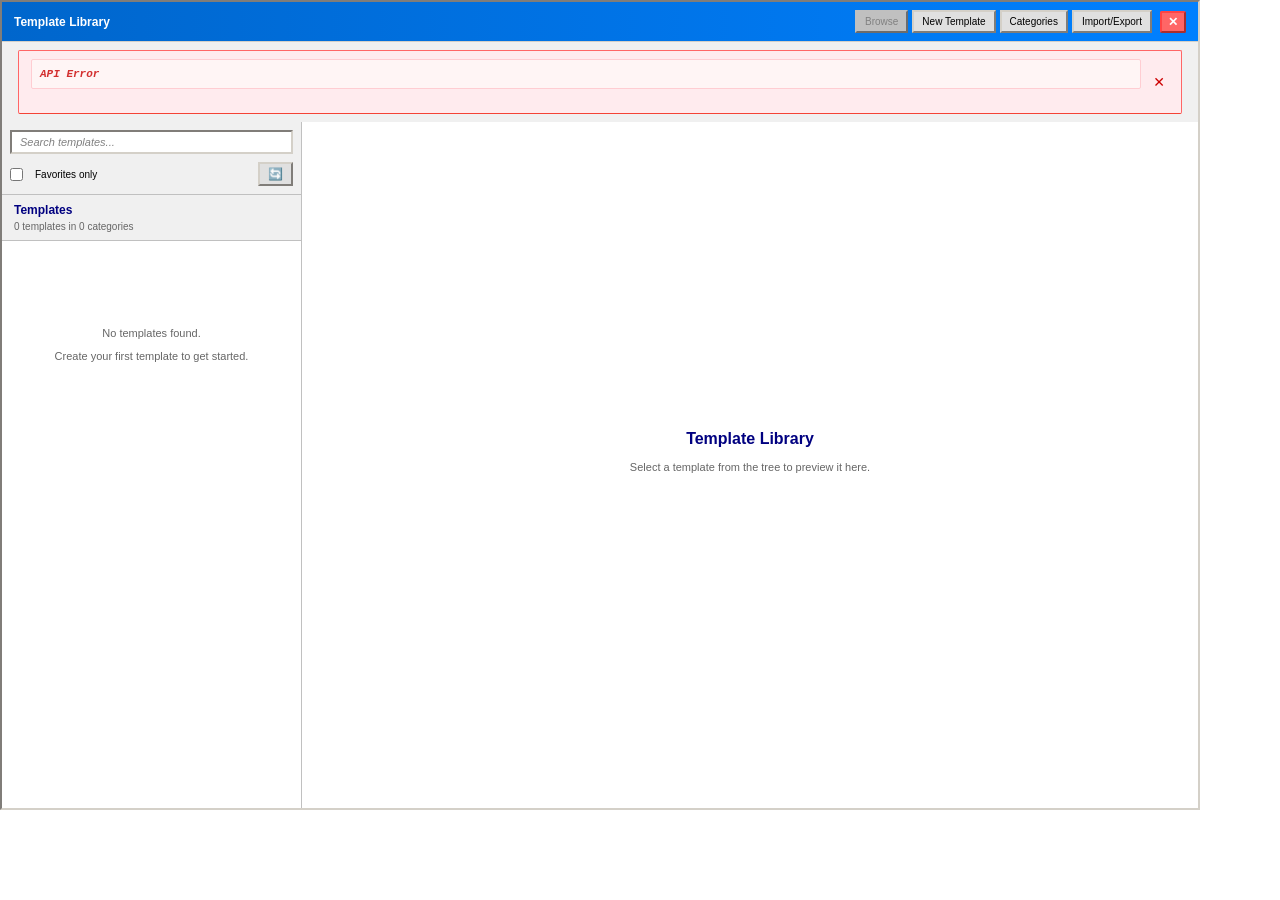
Test case: TemplateLibrary › Error Handling › allows clearing error messages
This screenshot has width=1280, height=900.
Expected: the text "API Error" is shown, top-left (31, 59), bottom-right (1141, 89)
Click the button "✕" in the row of "API Error" at (1159, 82), box top-left (1149, 74), bottom-right (1169, 90)
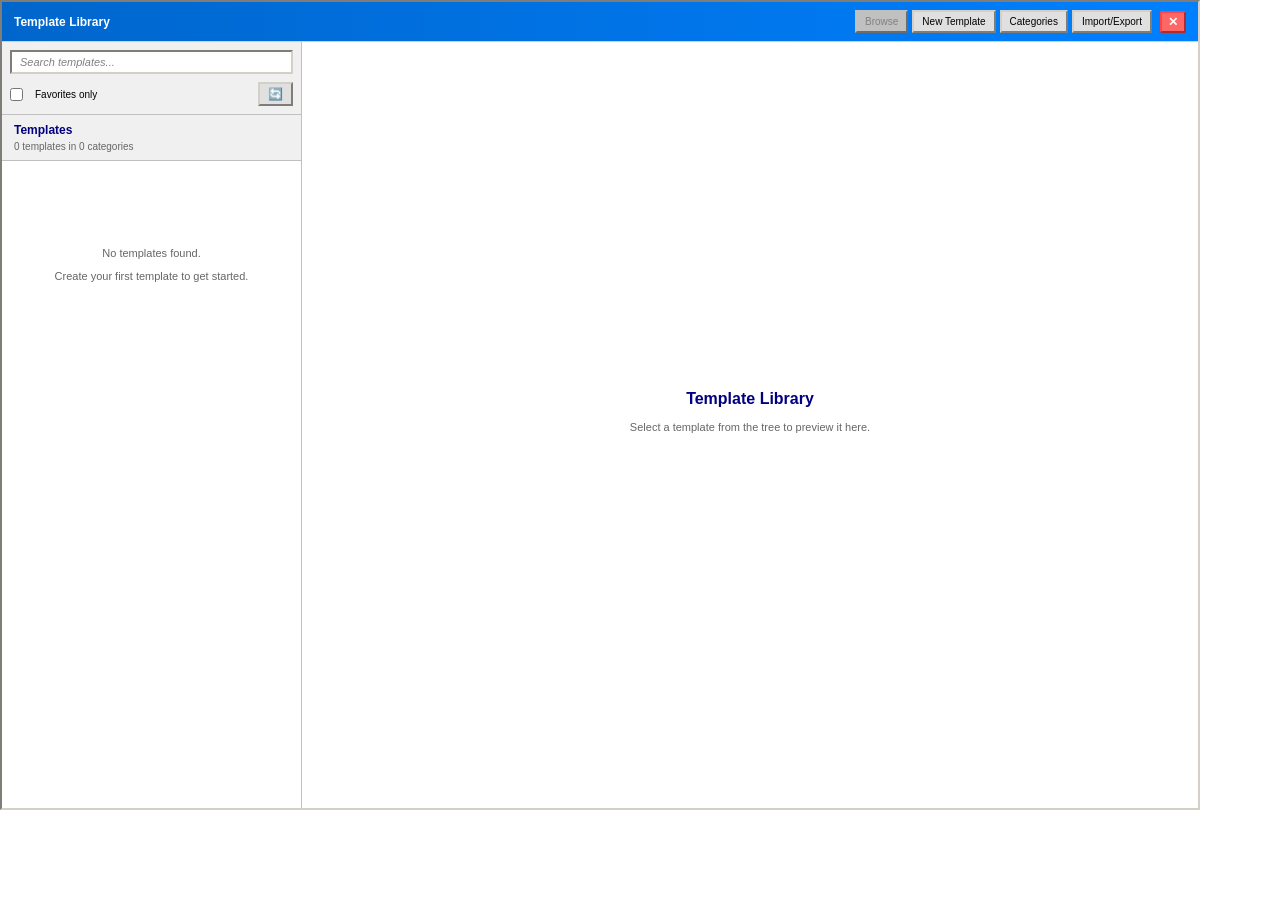
Result: the text "API Error" is gone
